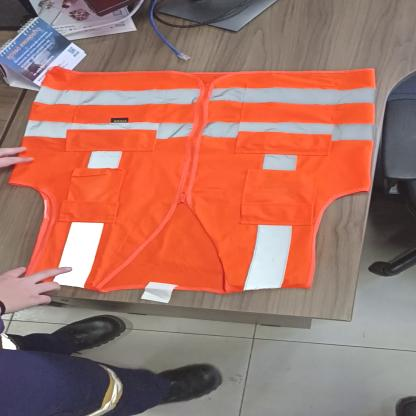colete: (6, 63, 378, 292)
